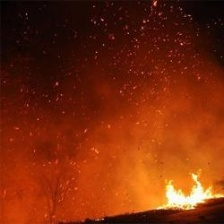fire: (150, 162, 214, 215)
